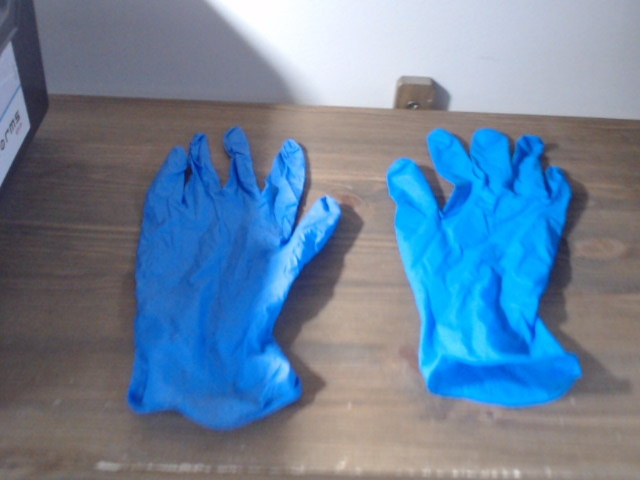medical_glove: (127, 128, 341, 424), (385, 126, 582, 405)
